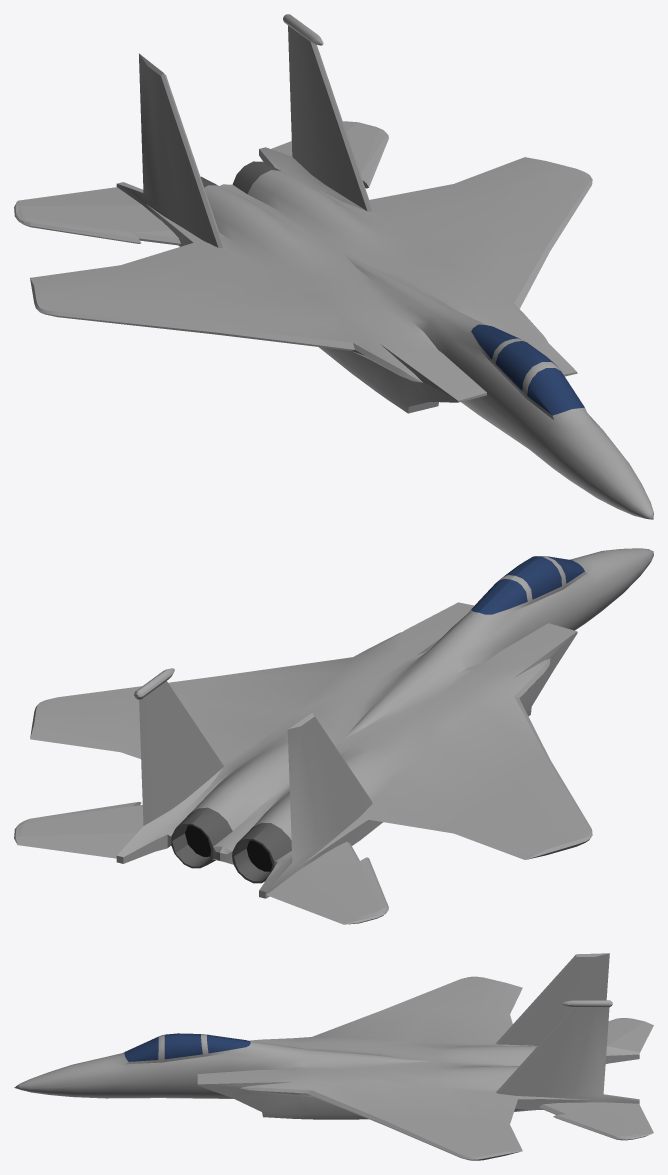
File: skyfire-ace-f15.glb
The picture shows the model from 3 angles, top to bottom: view 1: azimuth 30°, elevation 25°; view 2: azimuth 150°, elevation 25°; view 3: azimuth 270°, elevation 25°; orthographic projection. The views are drawn at different scales.
Visible parts, largest first — view 1: skyfire-ace-f15; view 2: skyfire-ace-f15; view 3: skyfire-ace-f15.
Part boxes in pixels (box(x1,y1,x2,y2)): skyfire-ace-f15: box(14, 14, 653, 519); skyfire-ace-f15: box(14, 548, 653, 924); skyfire-ace-f15: box(14, 953, 653, 1160).
Bounding box in the file's own units: 132 × 42.56 × 196.
